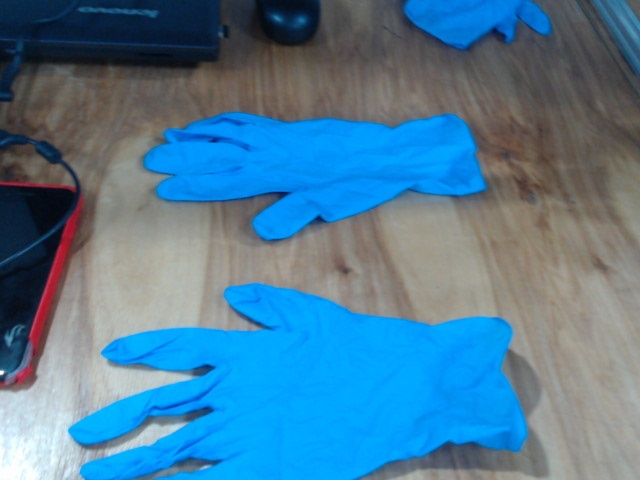medical_glove: (71, 281, 525, 480), (145, 113, 487, 239)
